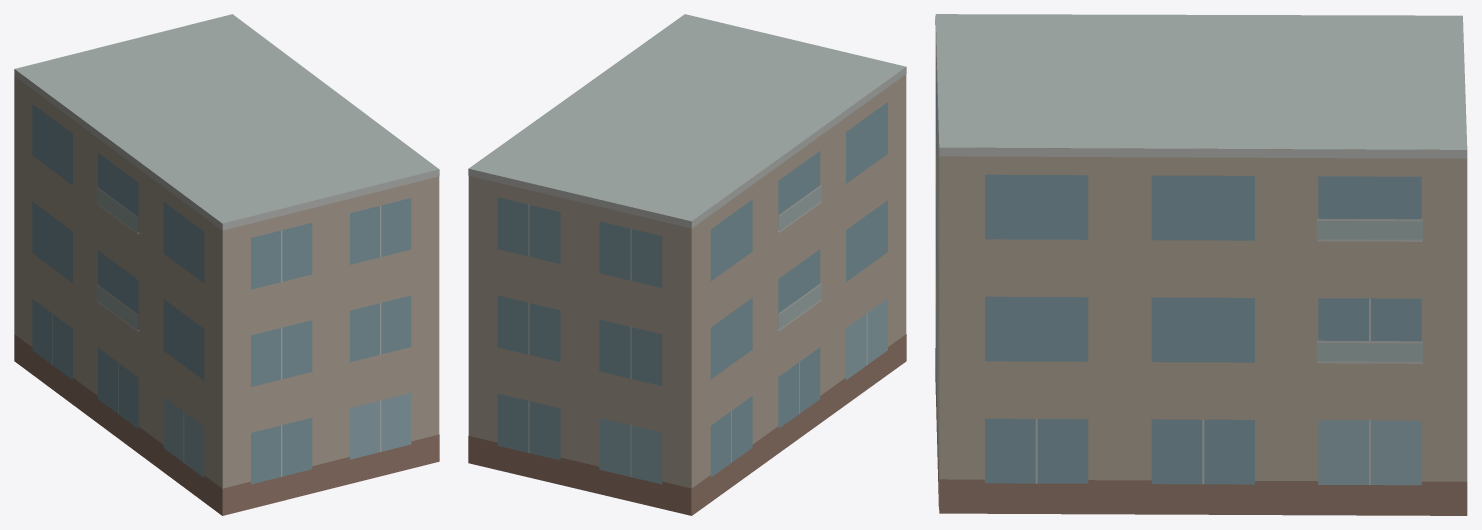
File: survey-upis-32611991.glb
3 renders of one model, left to right at view 1: azimuth 30°, elevation 25°; view 2: azimuth 150°, elevation 25°; view 3: azimuth 270°, elevation 25°, orthographic. The views are drawn at different scales.
Visible parts, largest first — view 1: survey-upis-32611991.tmp; view 2: survey-upis-32611991.tmp; view 3: survey-upis-32611991.tmp.
Part boxes in pixels (x1,y1,x2,y2): survey-upis-32611991.tmp: (14, 14, 439, 515); survey-upis-32611991.tmp: (468, 14, 906, 515); survey-upis-32611991.tmp: (935, 14, 1467, 515).
Size of the model in its own units: 8.08 by 10.1 by 13.31.
